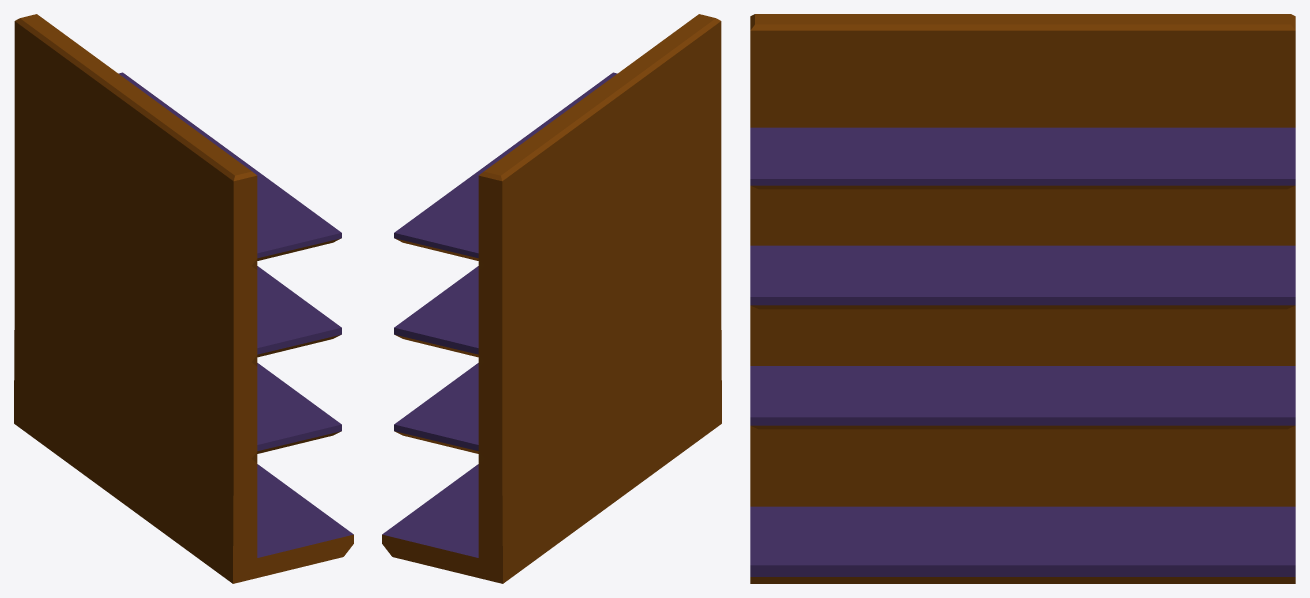
The model's file is SmallShelf.fbx.
The picture shows the model from 3 angles, left to right: view 1: azimuth 30°, elevation 25°; view 2: azimuth 150°, elevation 25°; view 3: azimuth 270°, elevation 25°; orthographic projection. The views are drawn at different scales.
Visible parts, largest first — view 1: Shelf_Small; view 2: Shelf_Small; view 3: Shelf_Small.
Part boxes in pixels (bbox=[...]): Shelf_Small: bbox=[14, 14, 353, 583]; Shelf_Small: bbox=[382, 14, 721, 583]; Shelf_Small: bbox=[750, 14, 1295, 583].
Size of the model in its own units: 52.92 by 170 by 166.
